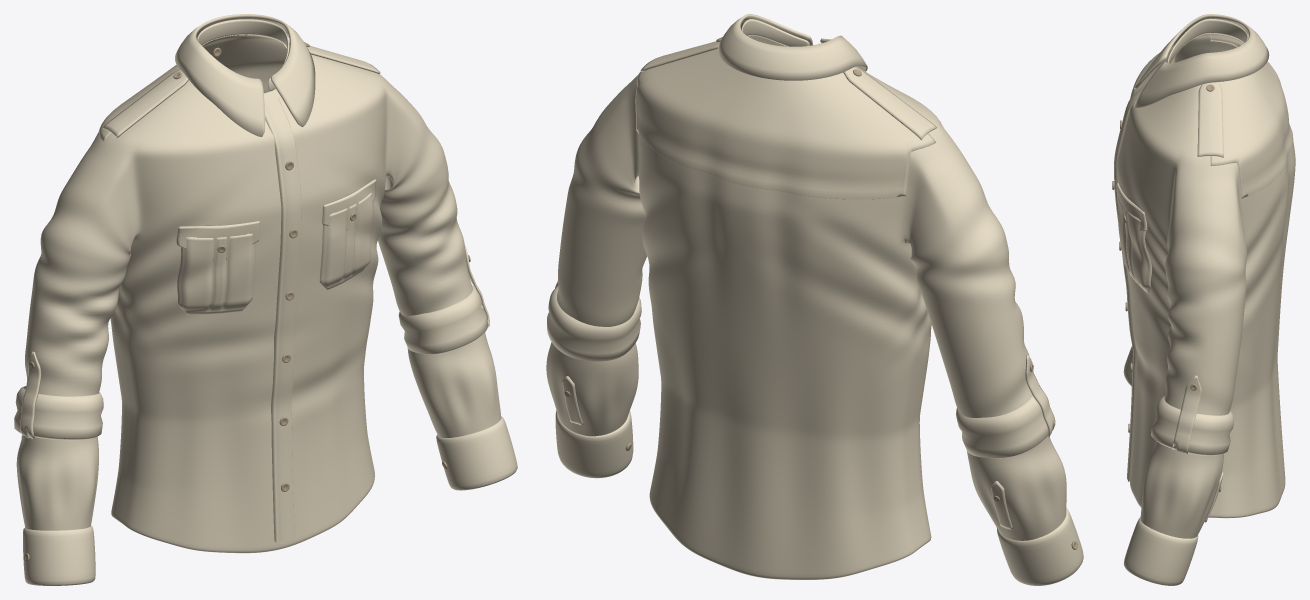
The model's file is kemeja_lapangan_mockup.glb.
3 renders of one model, left to right at view 1: azimuth 30°, elevation 25°; view 2: azimuth 150°, elevation 25°; view 3: azimuth 270°, elevation 25°, orthographic. The views are drawn at different scales.
Visible parts, largest first — view 1: Shirt_Body_Torso, Shirt_Sleeve_Upper_R, Shirt_Sleeve_Upper_L, Shirt_Placket, Shirt_Collar_Leaf, Shirt_Sleeve_Lower_R, Shirt_Sleeve_Lower_L, Shirt_Pocket_R, Shirt_Cuff_R, Shirt_Cuff_L, Shirt_Sleeve_RollCuff_L, Shirt_Pocket_L (+7 smaller); view 2: Shirt_Body_Torso, Shirt_Yoke_Back, Shirt_Sleeve_Upper_R, Shirt_Sleeve_Upper_L, Shirt_Sleeve_Lower_R, Shirt_Sleeve_Lower_L, Shirt_Collar_Leaf, Shirt_Cuff_R, Shirt_Sleeve_RollCuff_R, Shirt_Sleeve_RollCuff_L, Shirt_Cuff_L, Shirt_Epaulet_R (+3 smaller); view 3: Shirt_Body_Torso, Shirt_Sleeve_Upper_L, Shirt_Yoke_Back, Shirt_Sleeve_Lower_L, Shirt_Collar_Leaf, Shirt_Cuff_L, Shirt_Sleeve_RollCuff_L, Shirt_Pocket_L, Shirt_Epaulet_L, Shirt_Placket, Shirt_Sleeve_Tab_L, Shirt_Collar_Stand (+2 smaller).
Boxes of the visible parts, x1,y1,x2,y2 form: Shirt_Body_Torso: (104, 34, 388, 553); Shirt_Sleeve_Upper_R: (25, 132, 138, 396); Shirt_Sleeve_Upper_L: (378, 78, 472, 316); Shirt_Placket: (264, 98, 301, 542); Shirt_Collar_Leaf: (175, 14, 315, 136); Shirt_Sleeve_Lower_R: (16, 435, 98, 530); Shirt_Sleeve_Lower_L: (407, 332, 501, 437); Shirt_Pocket_R: (177, 233, 255, 314); Shirt_Cuff_R: (23, 525, 95, 585); Shirt_Cuff_L: (436, 416, 517, 490); Shirt_Sleeve_RollCuff_L: (398, 285, 488, 354); Shirt_Pocket_L: (319, 193, 373, 289); Shirt_Body_Torso: (636, 35, 944, 579); Shirt_Yoke_Back: (635, 48, 935, 199); Shirt_Sleeve_Upper_R: (902, 129, 1032, 417); Shirt_Sleeve_Upper_L: (557, 75, 646, 326); Shirt_Sleeve_Lower_R: (967, 436, 1066, 540); Shirt_Sleeve_Lower_L: (546, 342, 638, 436); Shirt_Collar_Leaf: (717, 14, 867, 80); Shirt_Cuff_R: (996, 507, 1083, 585); Shirt_Sleeve_RollCuff_R: (956, 389, 1048, 458); Shirt_Sleeve_RollCuff_L: (547, 286, 641, 361); Shirt_Cuff_L: (555, 410, 633, 478); Shirt_Epaulet_R: (843, 67, 937, 140); Shirt_Body_Torso: (1117, 33, 1295, 518); Shirt_Sleeve_Upper_L: (1164, 163, 1247, 415); Shirt_Yoke_Back: (1210, 33, 1293, 198); Shirt_Sleeve_Lower_L: (1140, 441, 1223, 538); Shirt_Collar_Leaf: (1133, 14, 1269, 108); Shirt_Cuff_L: (1124, 517, 1198, 585); Shirt_Sleeve_RollCuff_L: (1151, 396, 1234, 455); Shirt_Pocket_L: (1117, 196, 1152, 293); Shirt_Epaulet_L: (1197, 82, 1223, 157); Shirt_Placket: (1114, 83, 1146, 481); Shirt_Sleeve_Tab_L: (1172, 375, 1201, 454); Shirt_Collar_Stand: (1167, 18, 1248, 63).
Bounding box in the file's own units: 0.7815 × 0.7457 × 0.2736.
